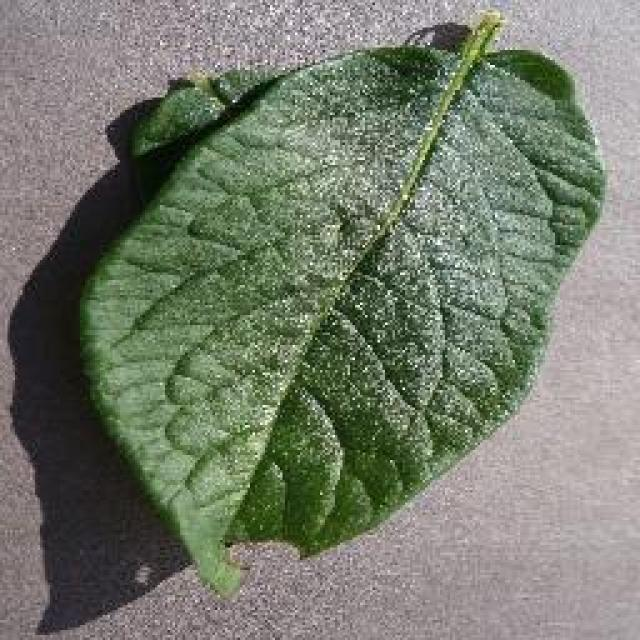Potato___healthy: (81, 6, 610, 603)
